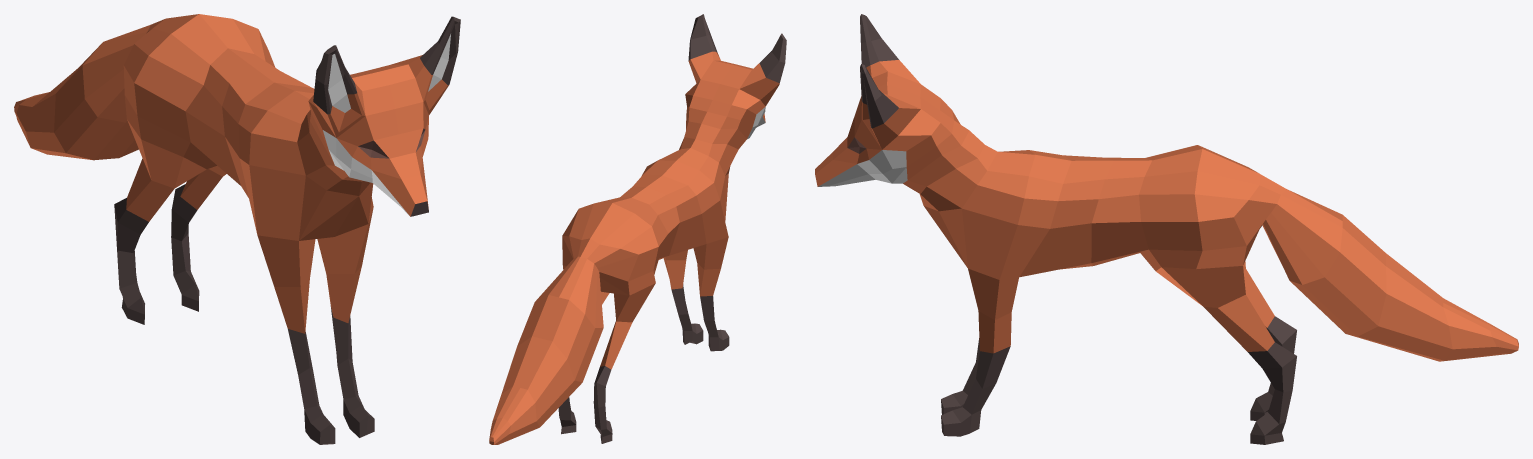
The model's file is fox.glb.
3 views of the same model, side by side, from view 1: azimuth 30°, elevation 25°; view 2: azimuth 150°, elevation 25°; view 3: azimuth 270°, elevation 25° (orthographic). The views are drawn at different scales.
Parts seen in each view (by area): view 1: Cube.002; view 2: Cube.002; view 3: Cube.002.
Boxes of the visible parts, x1,y1,x2,y2 form: Cube.002: [14, 14, 460, 444]; Cube.002: [489, 14, 786, 444]; Cube.002: [815, 14, 1518, 444].
Bounding box in the file's own units: 1.44 × 4.34 × 7.04.
